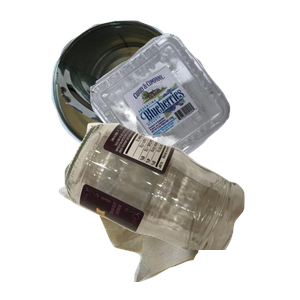glass: (62, 120, 300, 300)
metal: (49, 18, 229, 164)
plastic: (88, 31, 300, 198)
trash: (56, 120, 247, 300)
